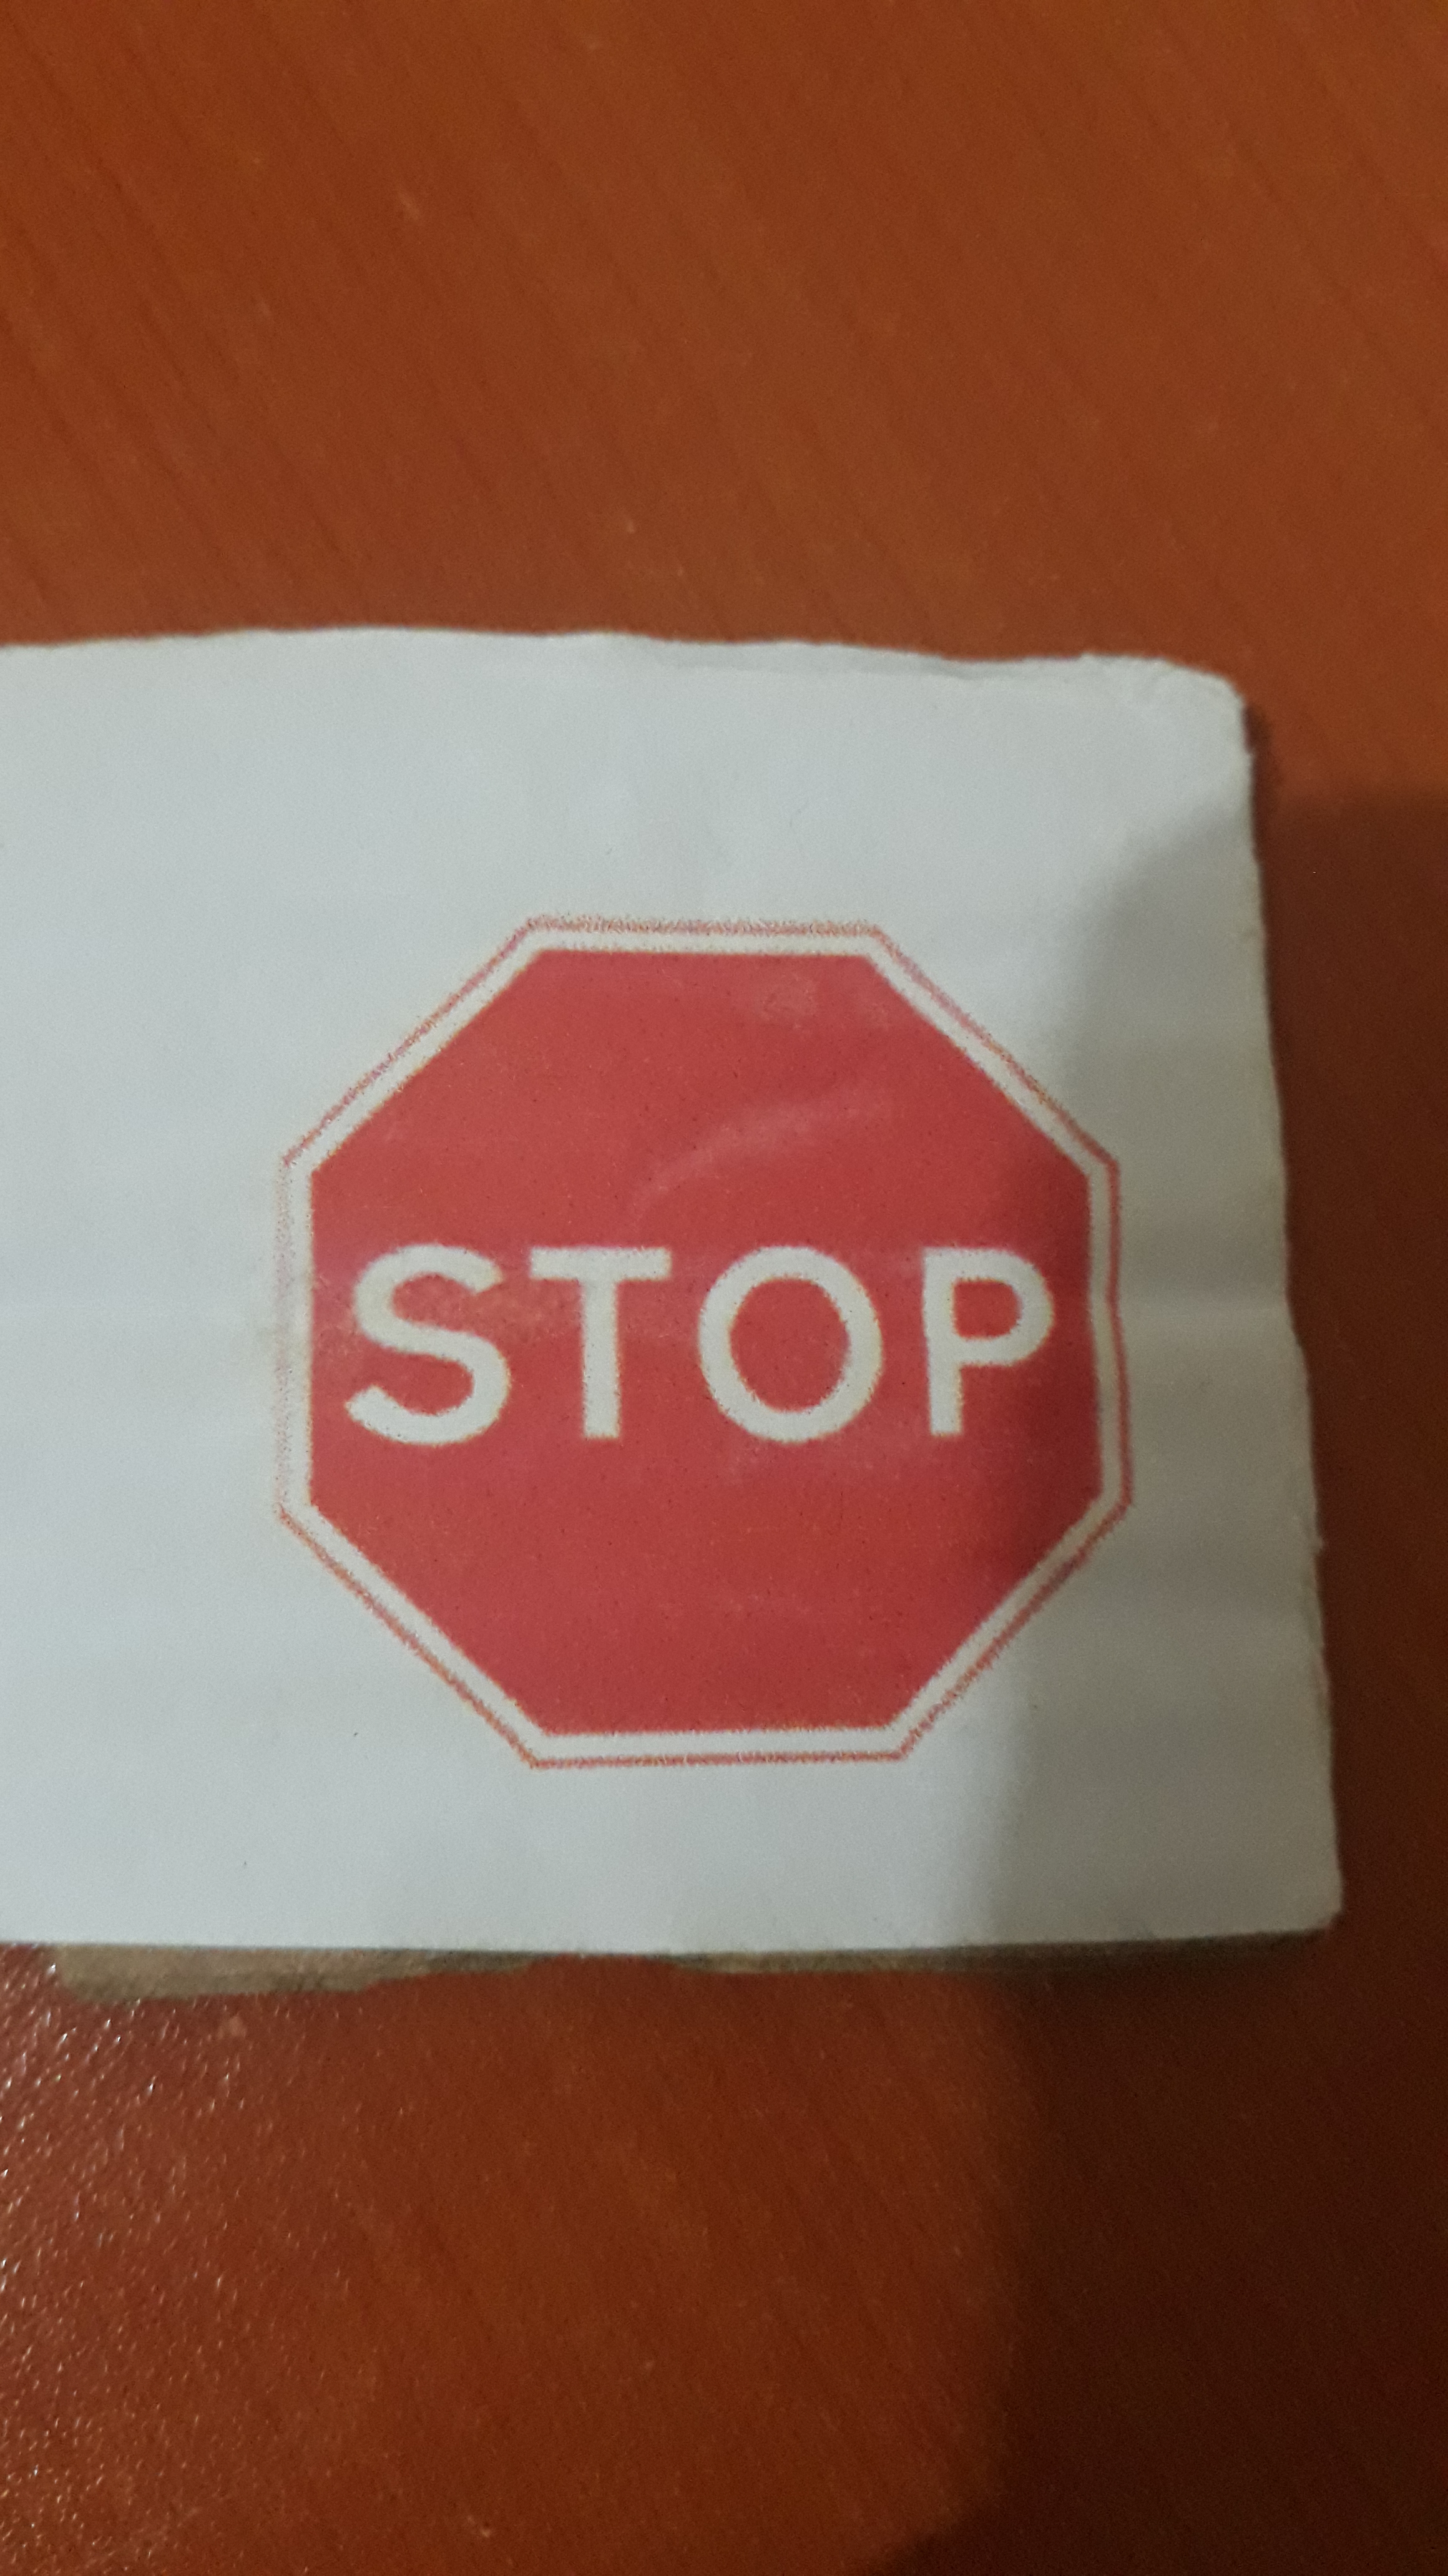stop: (271, 844, 1165, 1819)
